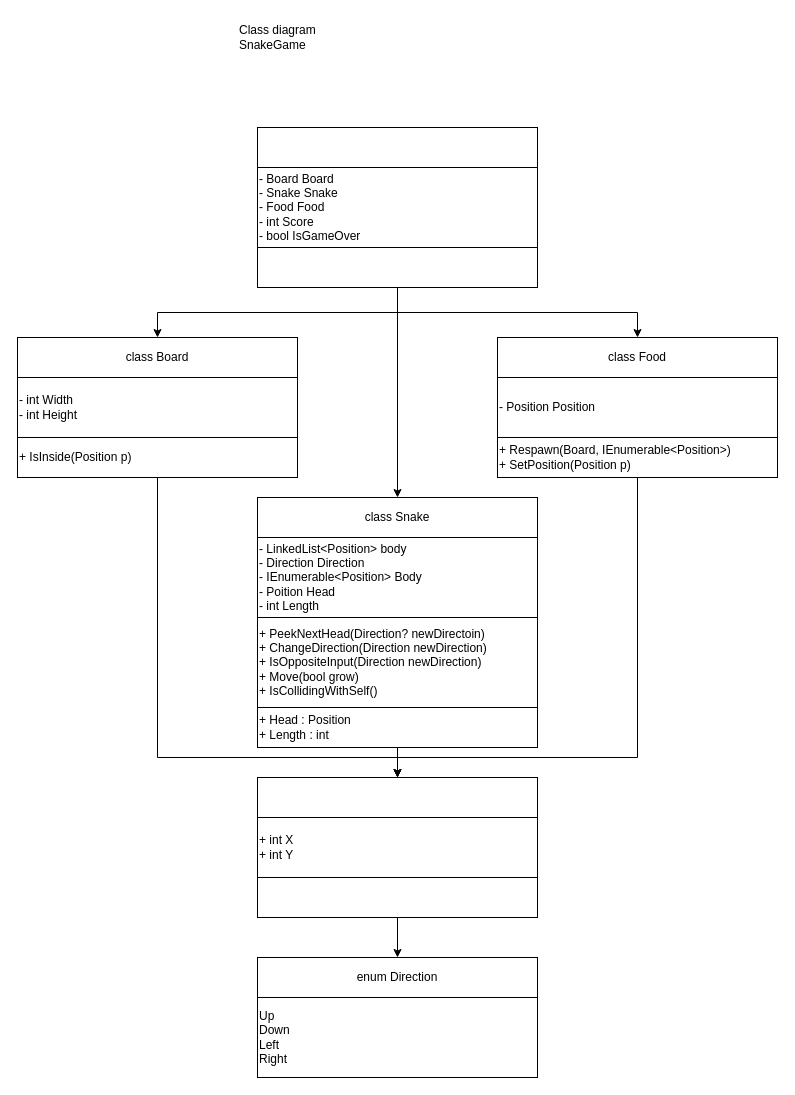
Some shapes in this 795 by 1095 pixel diagram are drawn without their labels. The shapes that lost their labels are listed below. From the top down, each one's centre as x and y in pixels, then its label:
At (397,147): "class Game".
At (397,267): "+ Update(Direction? input)".
At (397,797): "class Position".
At (397,897): "+ Next(Direction direction)".
